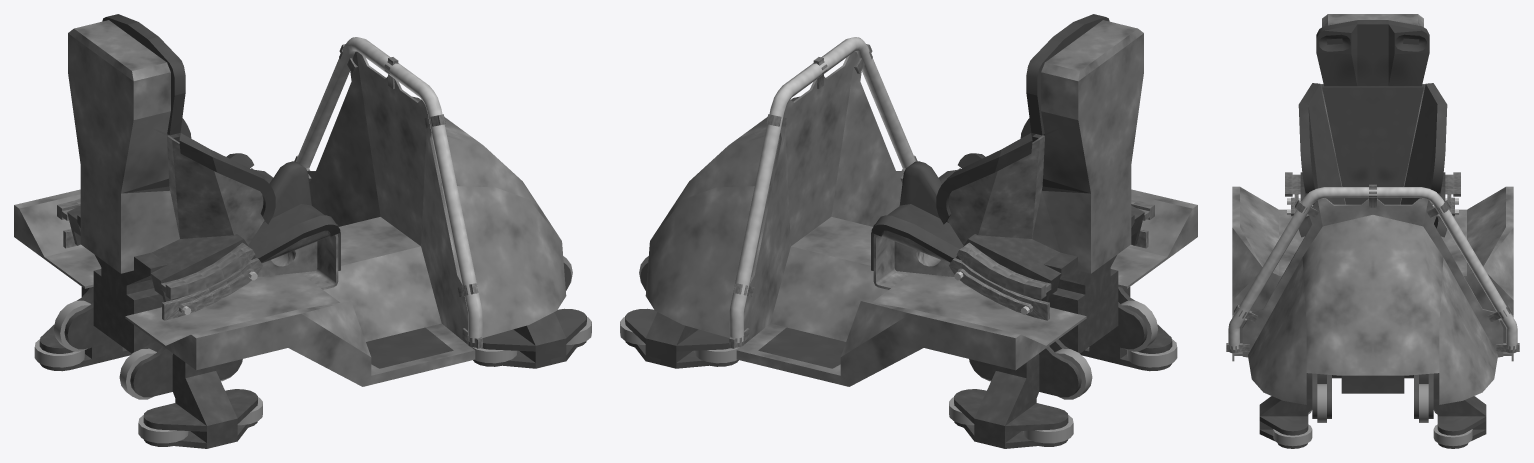
The model's file is front_car.obj.
3 views of the same model, side by side, from view 1: azimuth 30°, elevation 25°; view 2: azimuth 150°, elevation 25°; view 3: azimuth 270°, elevation 25° (orthographic). The views are drawn at different scales.
Size of the model in its own units: 1.3 by 1 by 0.953.
